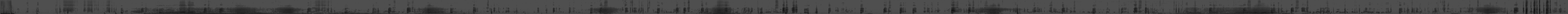Moan: (1271, 0, 1277, 14), (203, 0, 207, 14), (951, 0, 955, 14), (1092, 0, 1096, 14), (1514, 0, 1518, 14), (427, 0, 430, 14), (782, 0, 785, 14), (1291, 0, 1294, 14), (657, 0, 659, 14)
